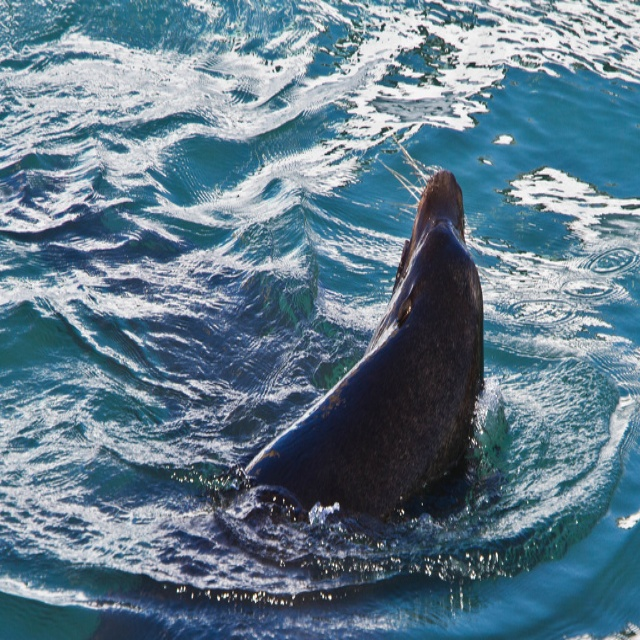Whale: (245, 128, 484, 525)
